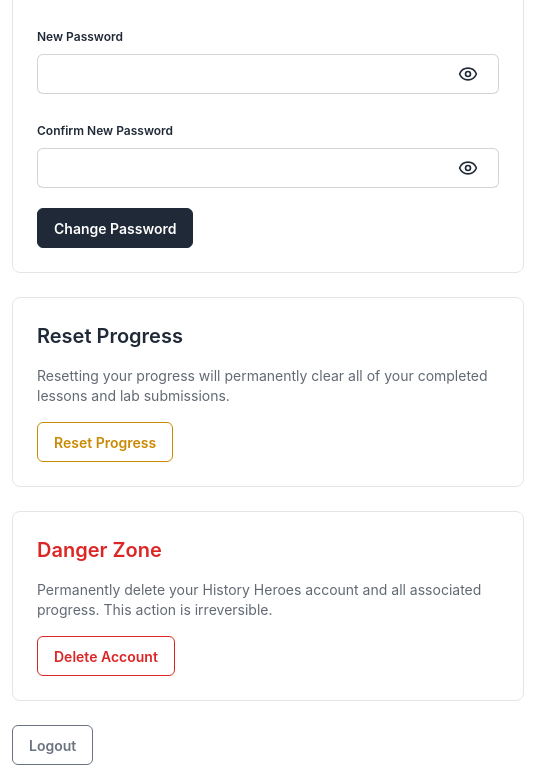
Scenario: ProfilePage › shows error alert when handleLogout fails
(page scrolled)
Click the button "Logout".
click(53, 745)  # box [12,725,93,764]
(page scrolled)
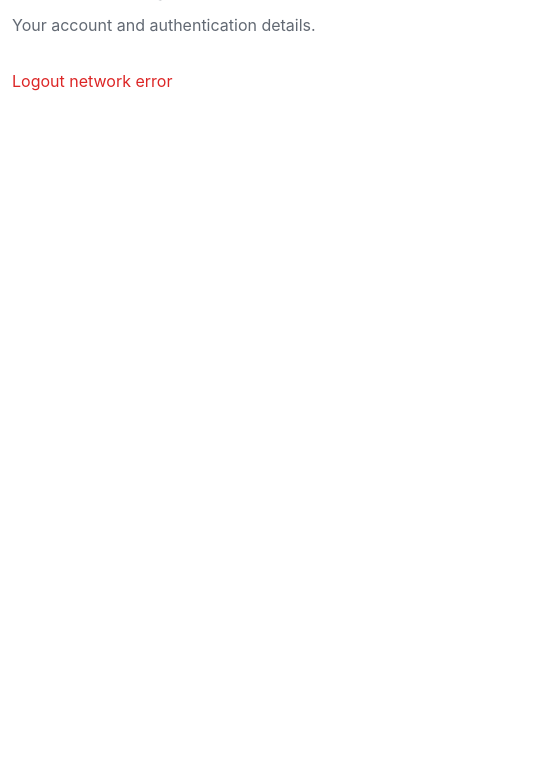
Expected: the message reads "Logout network error", [12,71,172,91]
